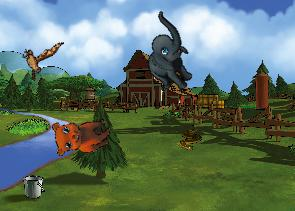bear: (46, 104, 115, 163)
eagle: (14, 30, 64, 86)
elephant: (124, 10, 213, 98)
